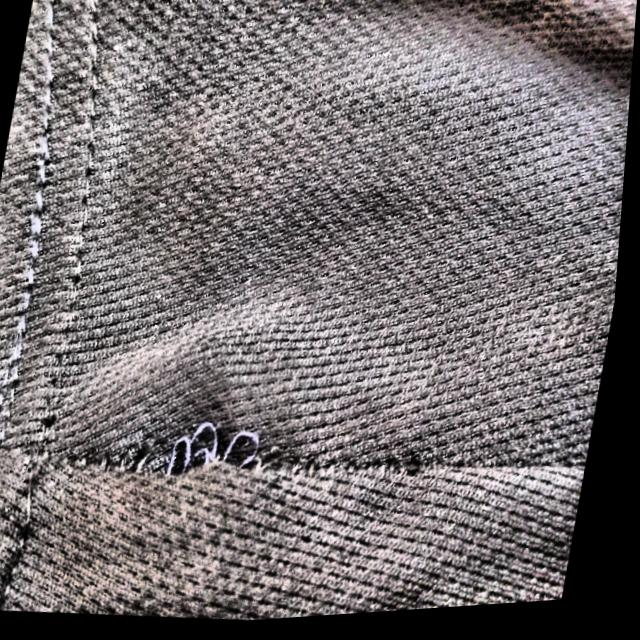Stitch: (112, 401, 299, 520)
